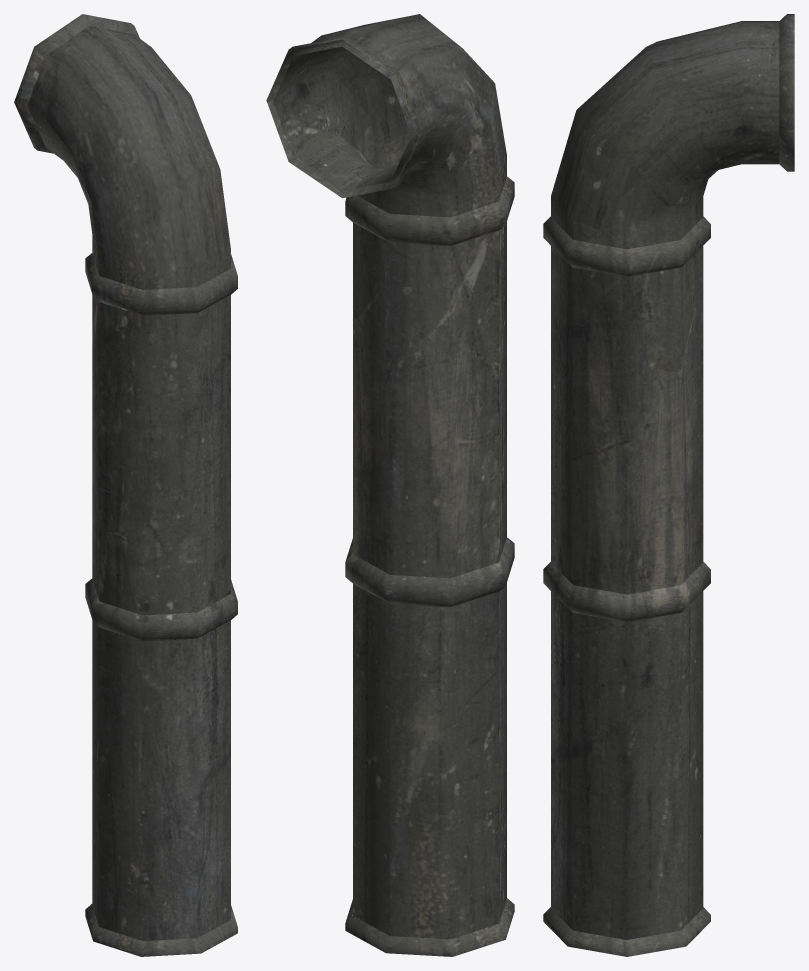
File: SM_Corridor_Pipe_Set_Gray_B_short.fbx
3 renders of one model, left to right at view 1: azimuth 30°, elevation 25°; view 2: azimuth 150°, elevation 25°; view 3: azimuth 270°, elevation 25°, orthographic. The views are drawn at different scales.
Visible parts, largest first — view 1: SM_Corridor_Pipe_Set_Gray_B_short; view 2: SM_Corridor_Pipe_Set_Gray_B_short; view 3: SM_Corridor_Pipe_Set_Gray_B_short.
Boxes of the visible parts, x1=… form: SM_Corridor_Pipe_Set_Gray_B_short: x1=14, y1=14, x2=237, y2=956; SM_Corridor_Pipe_Set_Gray_B_short: x1=266, y1=14, x2=514, y2=956; SM_Corridor_Pipe_Set_Gray_B_short: x1=543, y1=14, x2=794, y2=956.
Bounding box in the file's own units: 22 × 131 × 33.
